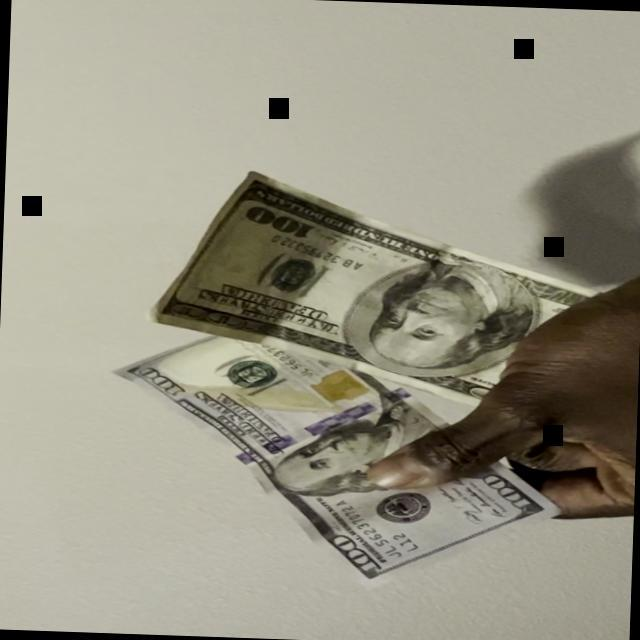hundred: (105, 329, 566, 592), (140, 167, 604, 410)
